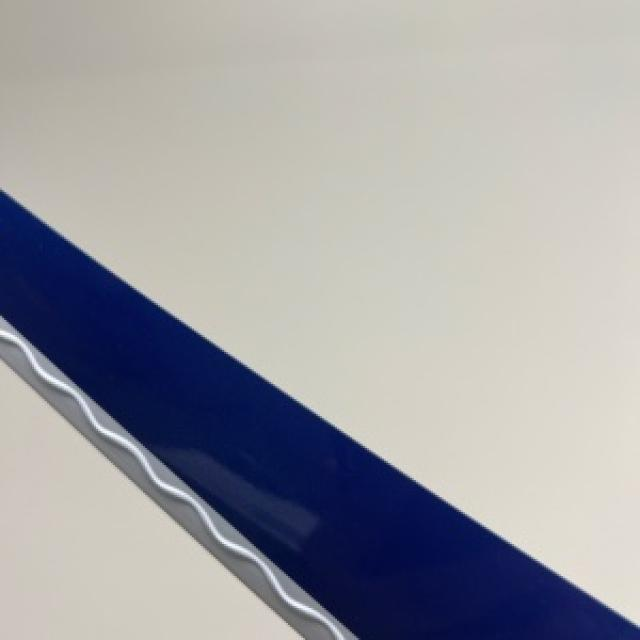healthy: (0, 192, 638, 638), (0, 363, 299, 638)
